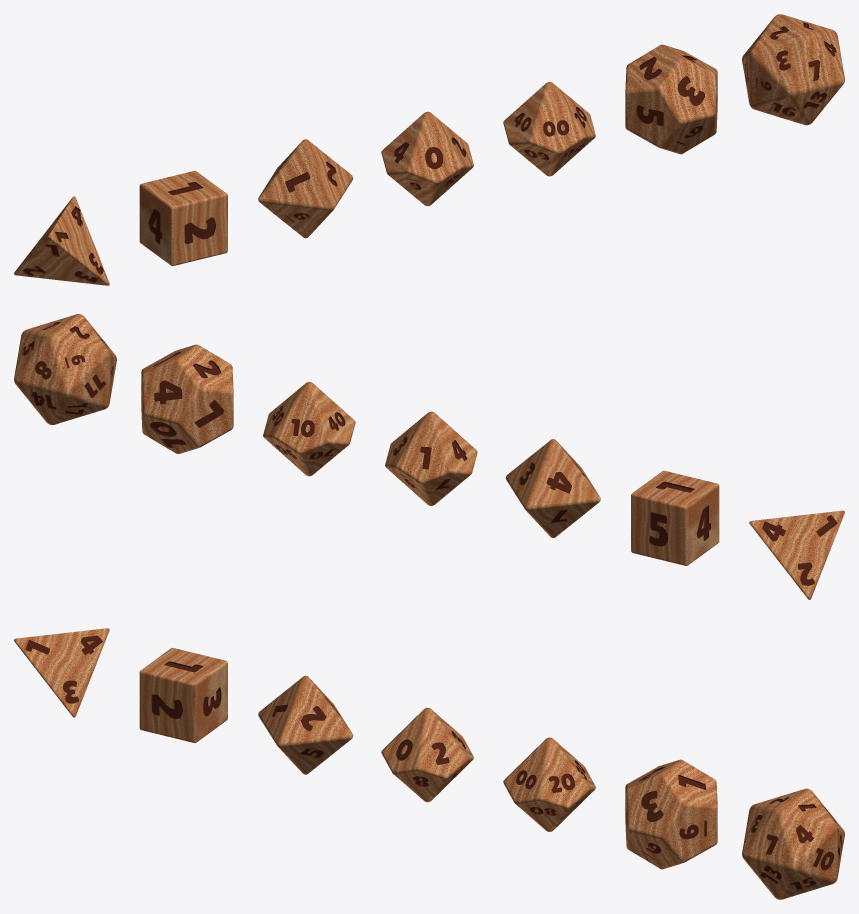
Rendered from sandstone.glb.
3 renders of one model, top to bottom at view 1: azimuth 30°, elevation 25°; view 2: azimuth 150°, elevation 25°; view 3: azimuth 330°, elevation 25°, orthographic.
Visible parts, largest first — view 1: d20, d12, d6, d100, d10, d8, d4; view 2: d20, d12, d6, d100, d10, d8, d4; view 3: d20, d12, d6, d8, d10, d100, d4.
Part boxes in pixels (bbox=[...]): d20: bbox=[742, 14, 844, 125]; d12: bbox=[625, 44, 717, 154]; d6: bbox=[139, 171, 227, 266]; d100: bbox=[503, 82, 595, 176]; d10: bbox=[381, 111, 473, 206]; d8: bbox=[258, 139, 353, 238]; d4: bbox=[14, 196, 109, 285]; d20: bbox=[14, 314, 116, 424]; d12: bbox=[141, 344, 233, 453]; d6: bbox=[631, 470, 719, 565]; d100: bbox=[263, 382, 355, 476]; d10: bbox=[385, 411, 477, 505]; d8: bbox=[505, 439, 600, 537]; d4: bbox=[749, 510, 844, 599]; d20: bbox=[742, 788, 844, 899]; d12: bbox=[625, 759, 717, 869]; d6: bbox=[139, 647, 227, 742]; d8: bbox=[258, 675, 353, 774]; d10: bbox=[381, 707, 473, 802]; d100: bbox=[503, 737, 595, 831]; d4: bbox=[14, 628, 109, 717].
Size of the model in its own units: 21.14 by 2.47 by 2.47.
14 materials, 7 textured.
